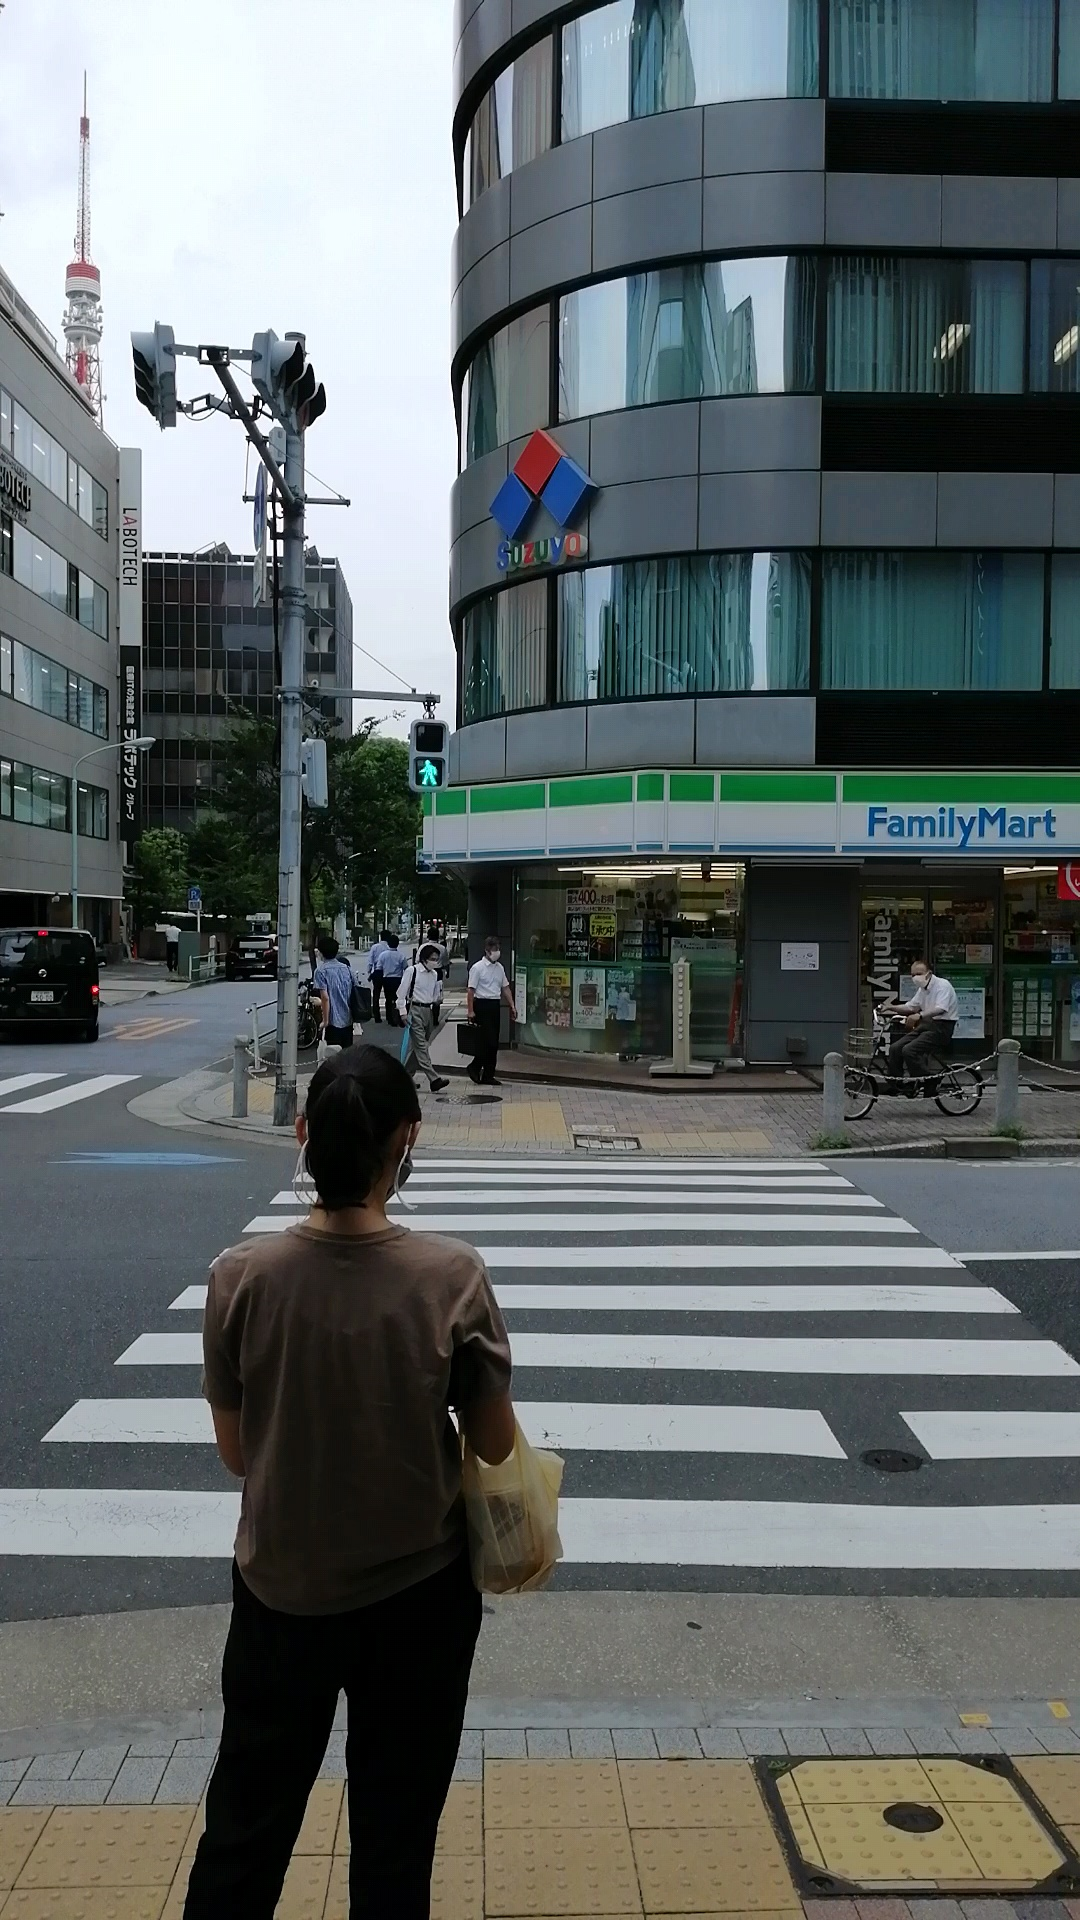green: (407, 719, 447, 793)
